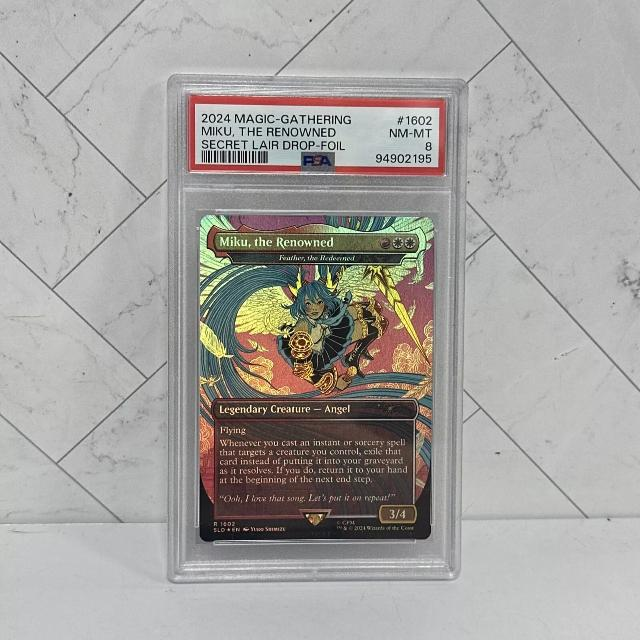card: (198, 214, 436, 542)
psa_label: (189, 95, 447, 175)
psa_slab: (166, 73, 468, 584)
